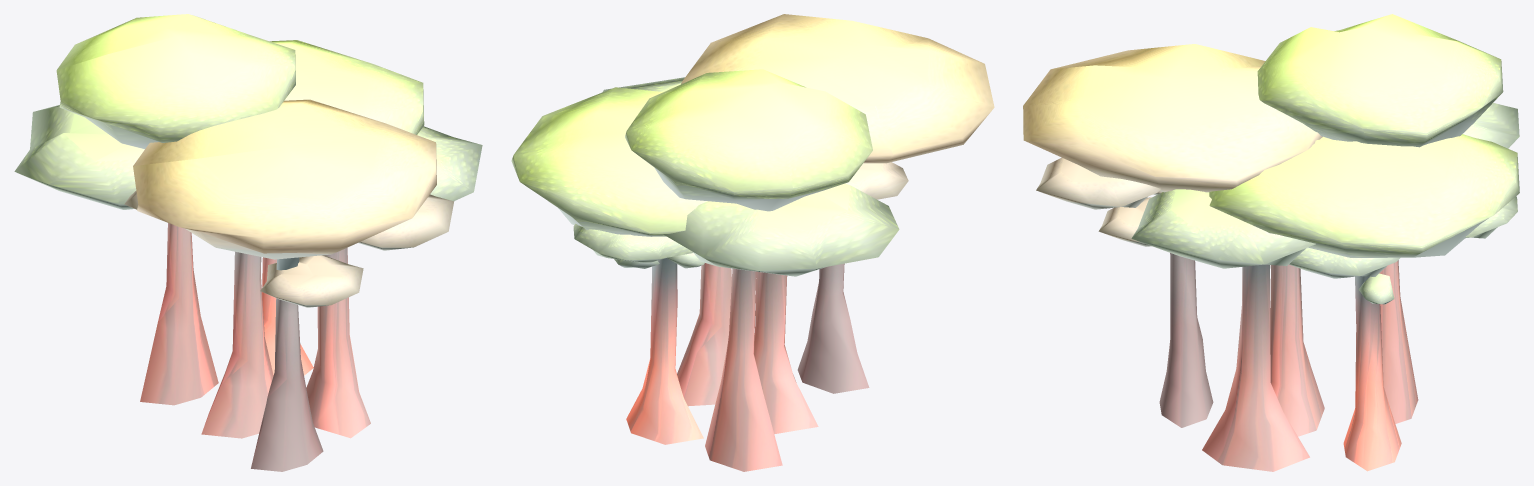
Rendered from tree-group.glb.
The picture shows the model from 3 angles, left to right: view 1: azimuth 30°, elevation 25°; view 2: azimuth 150°, elevation 25°; view 3: azimuth 270°, elevation 25°; orthographic projection. The views are drawn at different scales.
Parts seen in each view (by area): view 1: Tree.002; view 2: Tree.002; view 3: Tree.002.
Boxes of the visible parts, box(x1,y1,x2,y2) form: Tree.002: box(14, 14, 482, 471); Tree.002: box(511, 14, 994, 471); Tree.002: box(1023, 14, 1519, 471).
Size of the model in its own units: 57.95 by 54.48 by 65.27.
